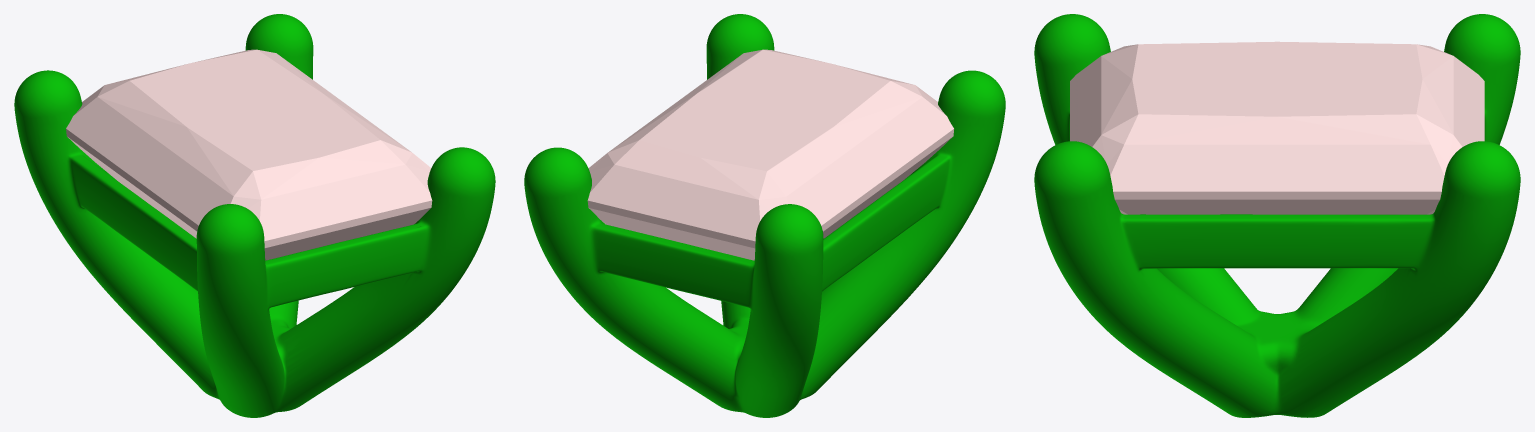
The picture shows the model from 3 angles, left to right: view 1: azimuth 30°, elevation 25°; view 2: azimuth 150°, elevation 25°; view 3: azimuth 270°, elevation 25°; orthographic projection. The views are drawn at different scales.
Parts seen in each view (by area): view 1: Metal01, Diamond_Radiant; view 2: Metal01, Diamond_Radiant; view 3: Metal01, Diamond_Radiant.
Part boxes in pixels (x1,y1,x2,y2): Metal01: [14, 14, 495, 417]; Diamond_Radiant: [66, 49, 432, 260]; Metal01: [524, 14, 1005, 417]; Diamond_Radiant: [587, 49, 953, 260]; Metal01: [1034, 14, 1520, 417]; Diamond_Radiant: [1070, 41, 1484, 214].
Bounding box in the file's own units: 5 × 4.74 × 6.45.
